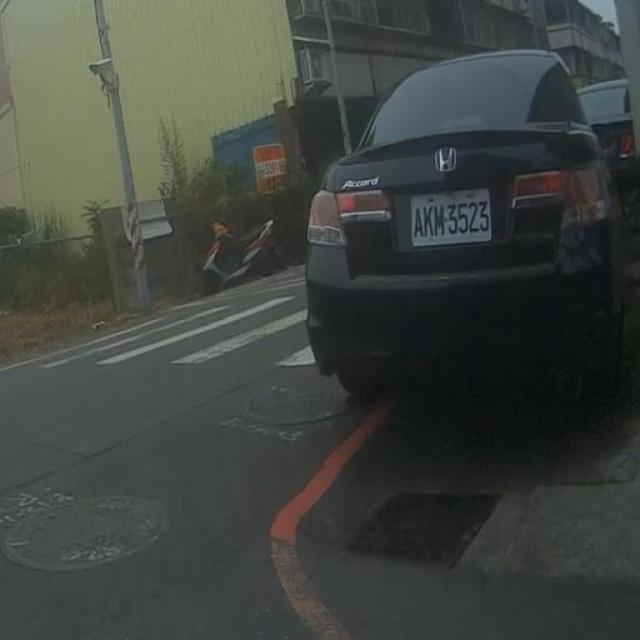illegalparking: (305, 50, 639, 396)
